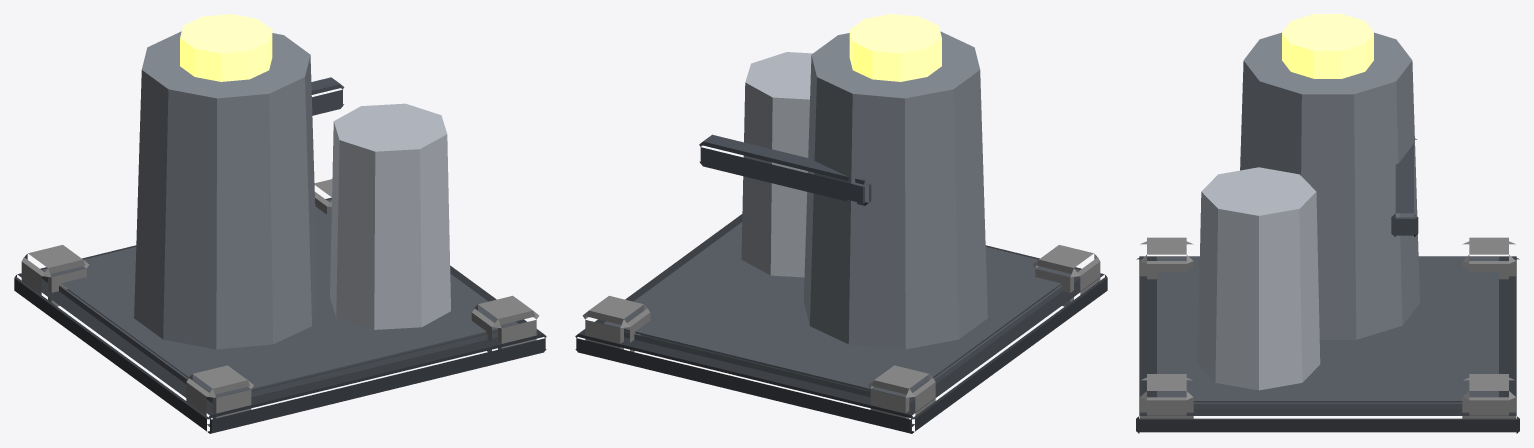
File: con_refinery.glb
3 views of the same model, side by side, from view 1: azimuth 30°, elevation 25°; view 2: azimuth 150°, elevation 25°; view 3: azimuth 270°, elevation 25° (orthographic). The views are drawn at different scales.
Visible parts, largest first — view 1: body; view 2: body; view 3: body.
Boxes of the visible parts, x1,y1,x2,y2 form: body: (14,14,546,433); body: (575,14,1107,433); body: (1136,14,1519,433).
Size of the model in its own units: 48 by 40.8 by 48.
